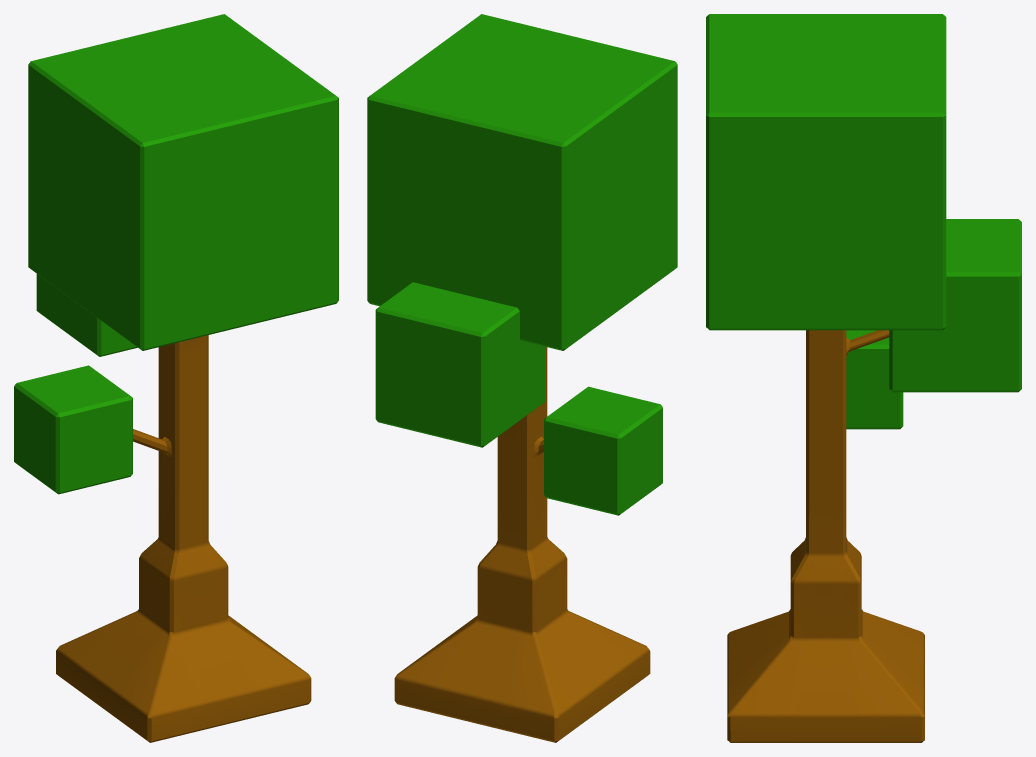
File: Tree.fbx
3 renders of one model, left to right at view 1: azimuth 30°, elevation 25°; view 2: azimuth 150°, elevation 25°; view 3: azimuth 270°, elevation 25°, orthographic. The views are drawn at different scales.
Parts seen in each view (by area): view 1: pCube5; view 2: pCube5; view 3: pCube5.
Boxes of the visible parts, x1,y1,x2,y2 form: pCube5: (14, 14, 338, 742); pCube5: (367, 14, 677, 742); pCube5: (706, 14, 1021, 742).
Size of the model in its own units: 2.85 by 7.12 by 3.19.
